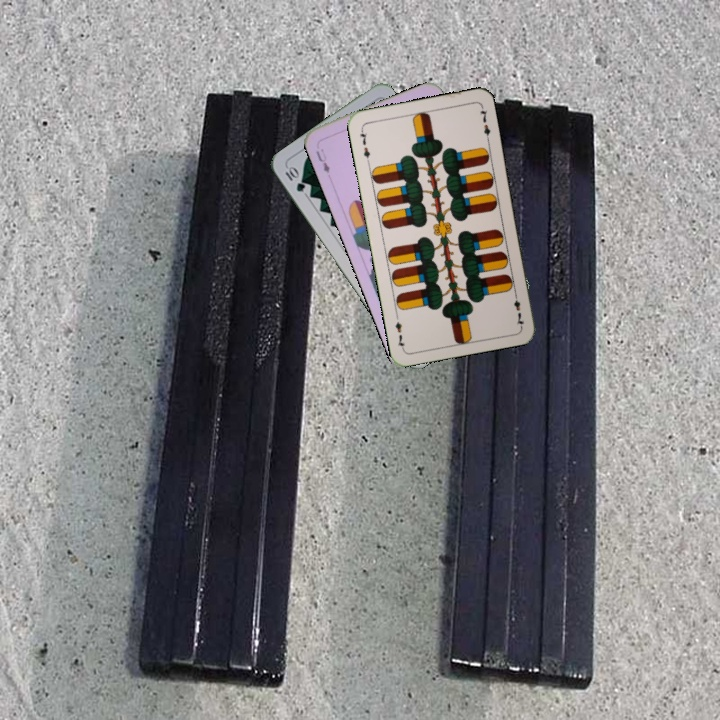E7: (355, 125, 373, 165), (510, 288, 527, 328)
EU: (312, 145, 332, 176)
G10: (281, 162, 308, 195)
